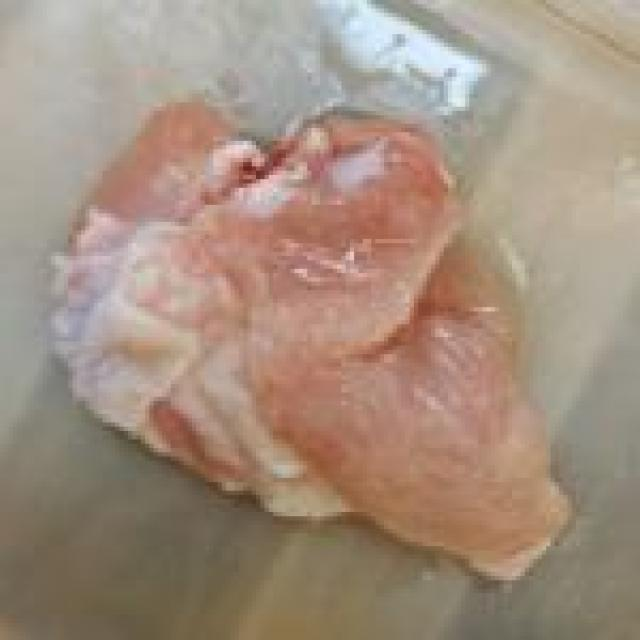breast: (72, 112, 583, 577)
